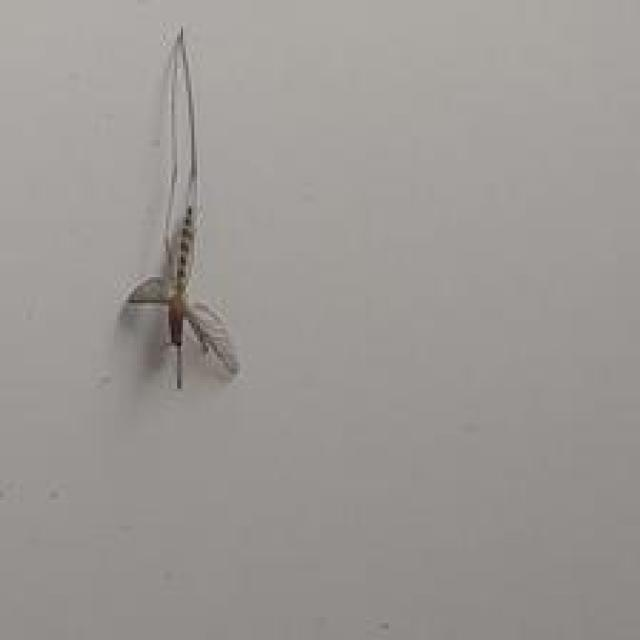Culex: (120, 24, 240, 390)
